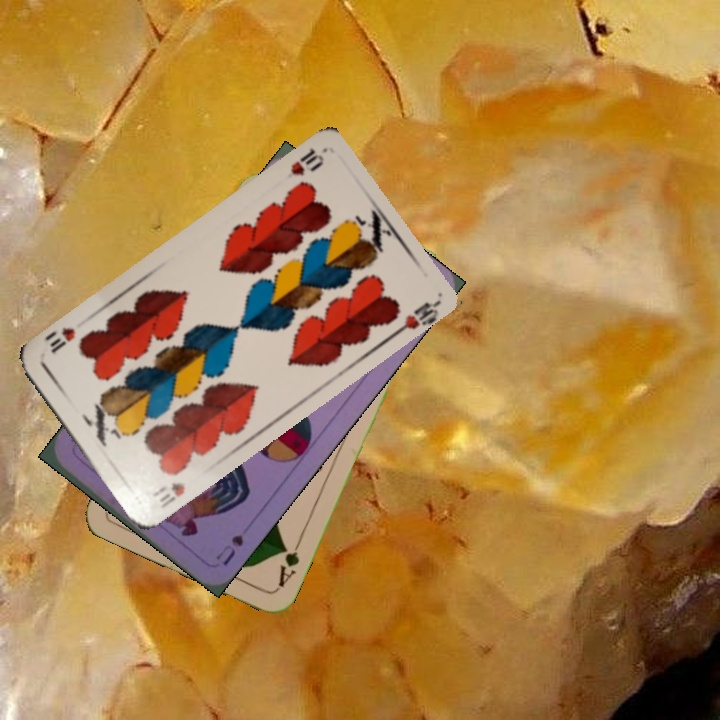GA: (273, 535, 304, 590)
H10: (286, 143, 327, 179), (149, 477, 188, 512)
SU: (211, 530, 246, 569)
